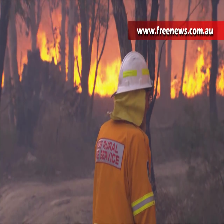fire_h: (74, 23, 121, 98), (170, 46, 211, 99), (37, 8, 61, 64), (215, 60, 224, 95)
fire_l: (153, 76, 161, 99), (17, 66, 24, 80), (1, 71, 6, 89)
